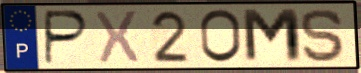2: (148, 8, 192, 66)
M: (239, 7, 306, 65)
O: (198, 8, 244, 66)
P: (42, 8, 92, 67)
S: (299, 7, 349, 64)
X: (93, 8, 141, 65)
